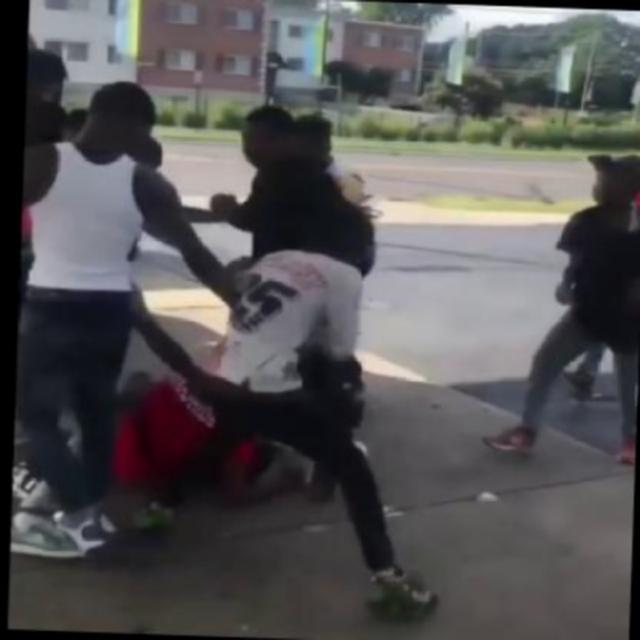non-fight: (496, 146, 638, 472)
